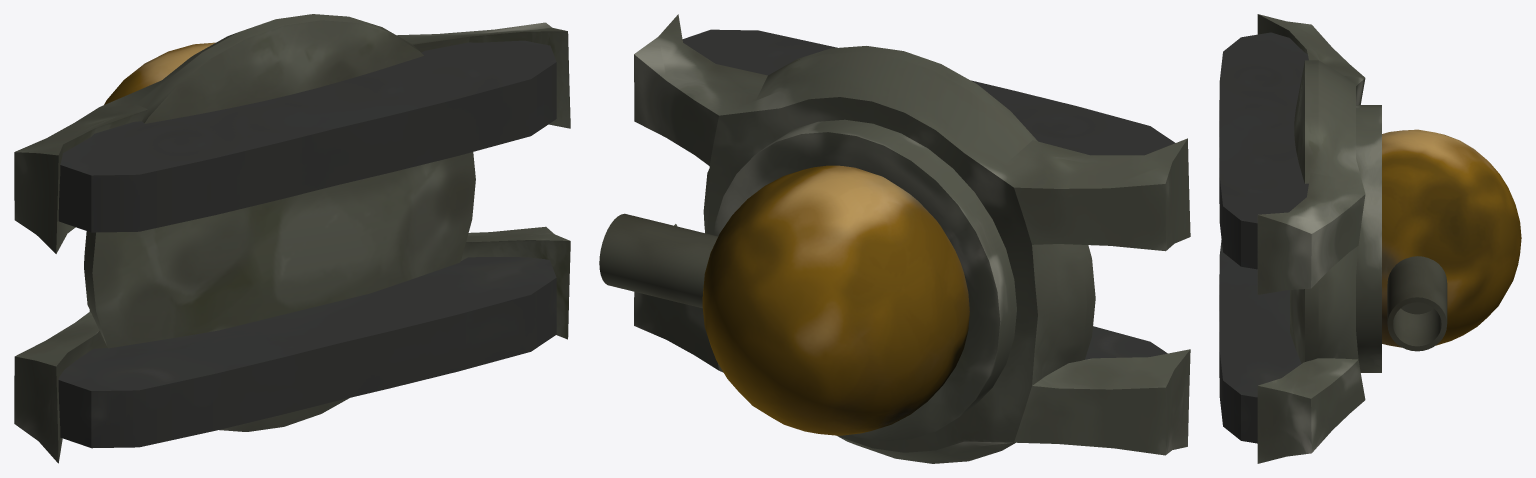
File: tankScav.fbx
3 views of the same model, side by side, from view 1: azimuth 30°, elevation 25°; view 2: azimuth 150°, elevation 25°; view 3: azimuth 270°, elevation 25° (orthographic). The views are drawn at different scales.
Visible parts, largest first — view 1: Cylinder.002, Sphere.001; view 2: Cylinder.002, Sphere.001, Cylinder.003; view 3: Cylinder.002, Sphere.001, Cylinder.003.
Boxes of the visible parts, <box> form: Cylinder.002: <box>14,14,570,463</box>; Sphere.001: <box>104,42,215,104</box>; Cylinder.002: <box>634,14,1190,463</box>; Sphere.001: <box>702,165,969,435</box>; Cylinder.003: <box>599,213,718,308</box>; Cylinder.002: <box>1219,14,1381,463</box>; Sphere.001: <box>1382,129,1521,347</box>; Cylinder.003: <box>1387,256,1447,351</box>.
Bounding box in the file's own units: 1103 × 796 × 672.
1 material, 1 textured.
